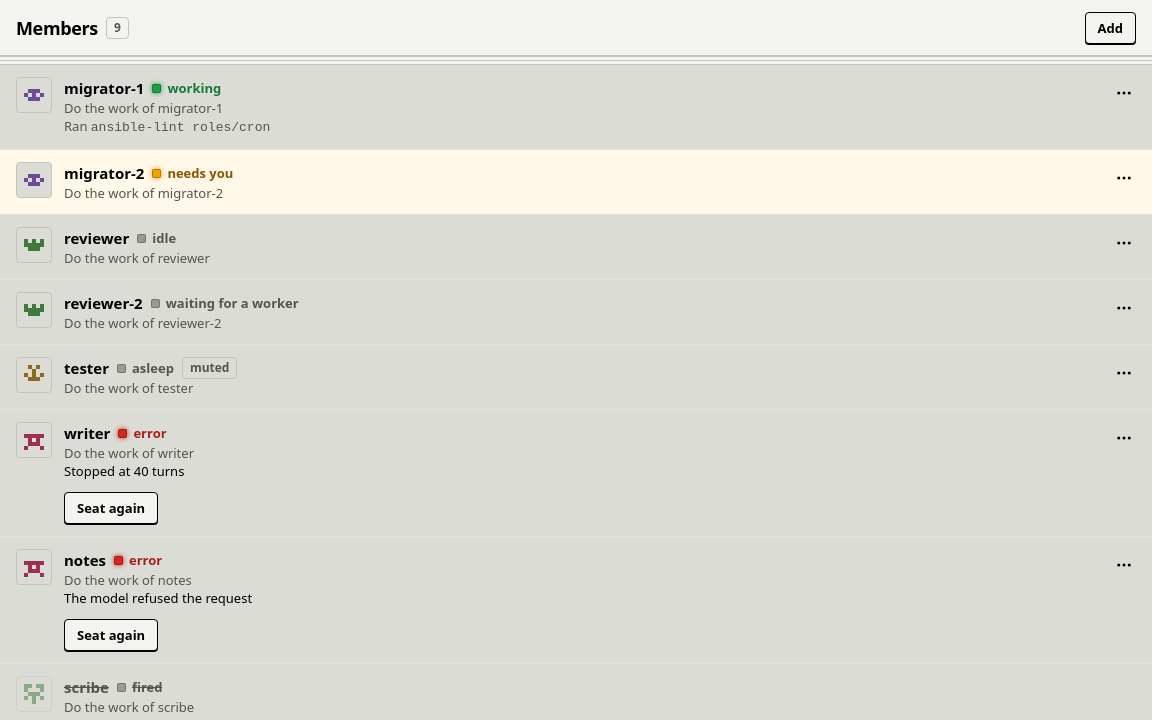
Scenario: the picker of Add › keeps the agents that match Who, and closes on Escape
Click the button "Add": (1110,28) top-left (1085, 12), bottom-right (1136, 44)
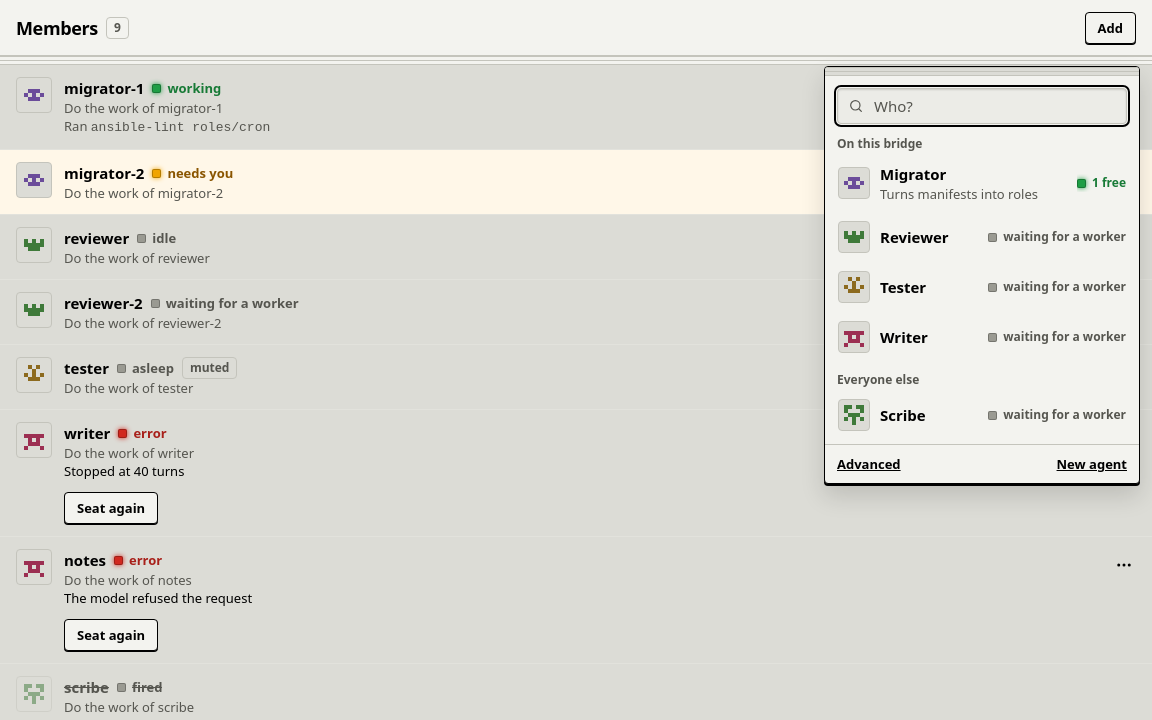
In the search field with placeholder "Who?": (994,106) top-left (872, 89), bottom-right (1116, 123), type "manifests"
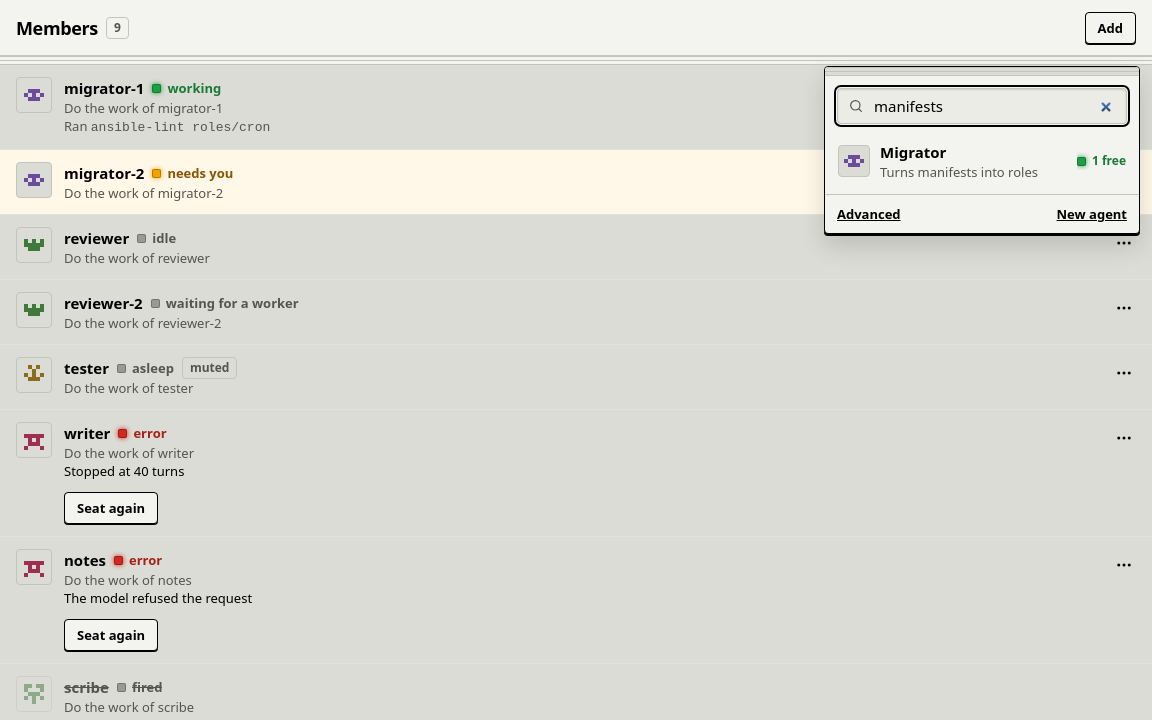
Press Escape in the search field, box top-left (872, 89), bottom-right (1116, 123)
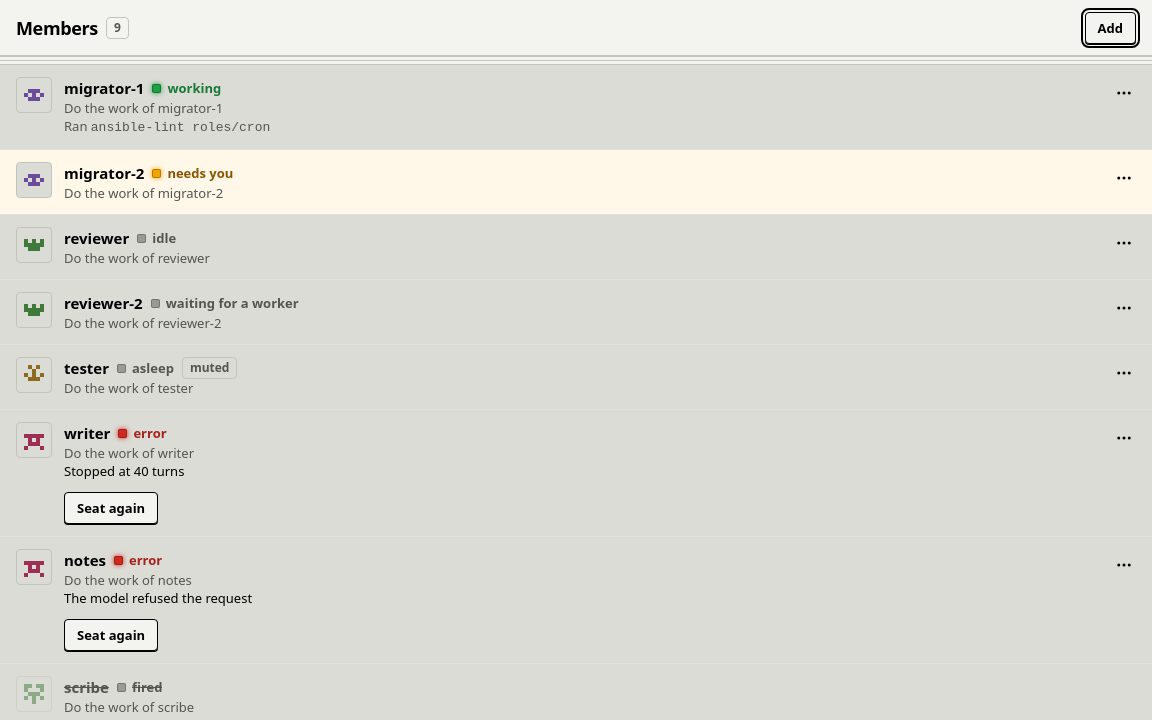
Expected: the dialog is gone
